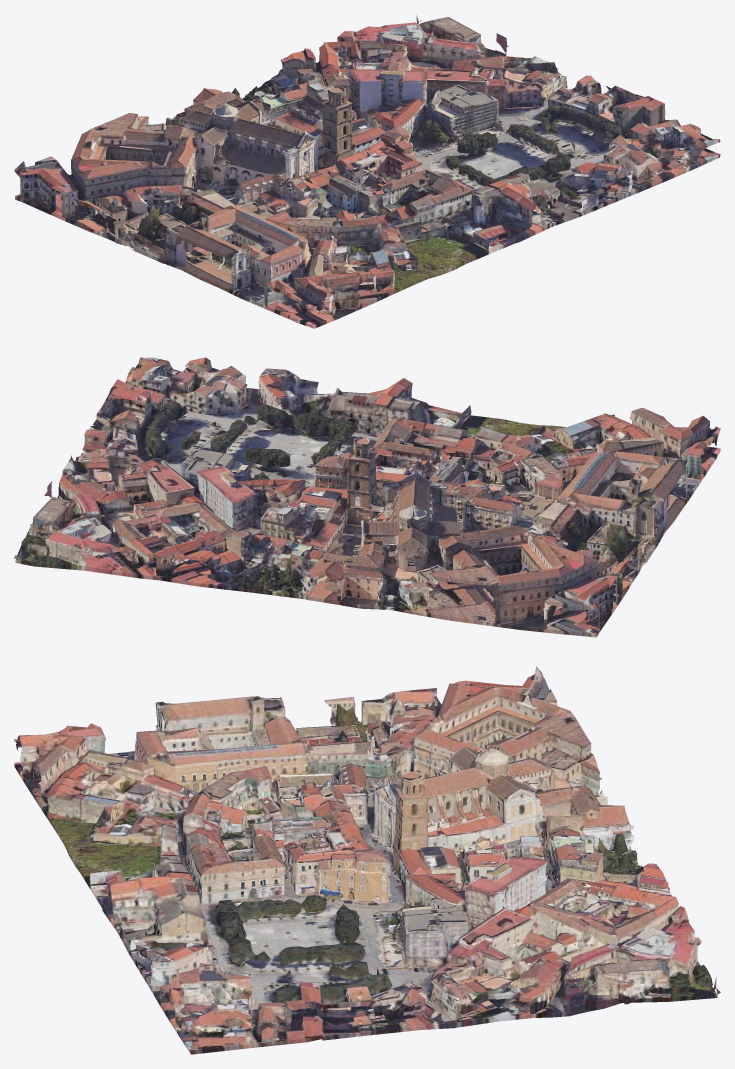
Rendered from Aversa-CattedraleSanPaolo.gltf.
3 renders of one model, top to bottom at view 1: azimuth 30°, elevation 25°; view 2: azimuth 150°, elevation 25°; view 3: azimuth 270°, elevation 25°, orthographic. The views are drawn at different scales.
Parts seen in each view (by area): view 1: mesh_0 (×22), mesh_0_1; view 2: mesh_0 (×23), mesh_0_1; view 3: mesh_0 (×22), mesh_0_1.
Boxes of the visible parts, x1,y1,x2,y2 form: mesh_0 (×22): [14, 15, 720, 328]; mesh_0_1: [104, 171, 254, 259]; mesh_0 (×23): [14, 357, 720, 637]; mesh_0_1: [177, 524, 312, 591]; mesh_0 (×22): [14, 666, 720, 1054]; mesh_0_1: [89, 769, 314, 884].
Bounding box in the file's own units: 0.7838 × 0.1089 × 0.6668.
Materials: 29 (29 with a texture image).
